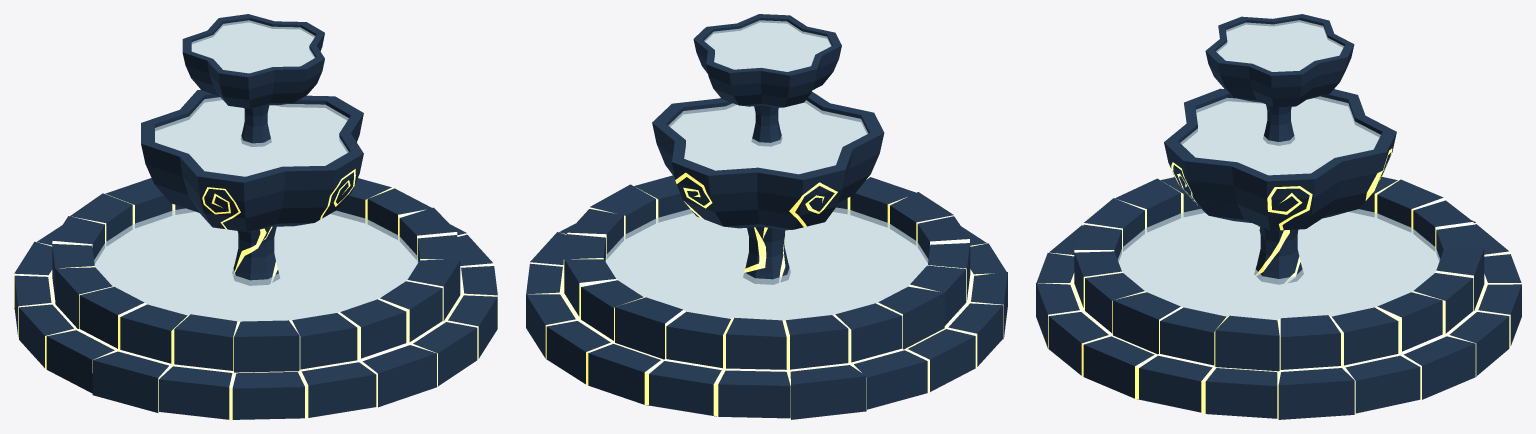
The model's file is plainFountain.glb.
3 views of the same model, side by side, from view 1: azimuth 30°, elevation 25°; view 2: azimuth 150°, elevation 25°; view 3: azimuth 270°, elevation 25° (orthographic).
Visible parts, largest first — view 1: FountainPlain; view 2: FountainPlain; view 3: FountainPlain.
Boxes of the visible parts, left/top/right/bottom form: FountainPlain: left=14, top=14, right=497, bottom=419; FountainPlain: left=526, top=14, right=1007, bottom=419; FountainPlain: left=1036, top=14, right=1521, bottom=419.
Size of what is drawn, in the model's own units: 2.93 by 1.82 by 2.92.
Materials: 3 (2 with a texture image).
